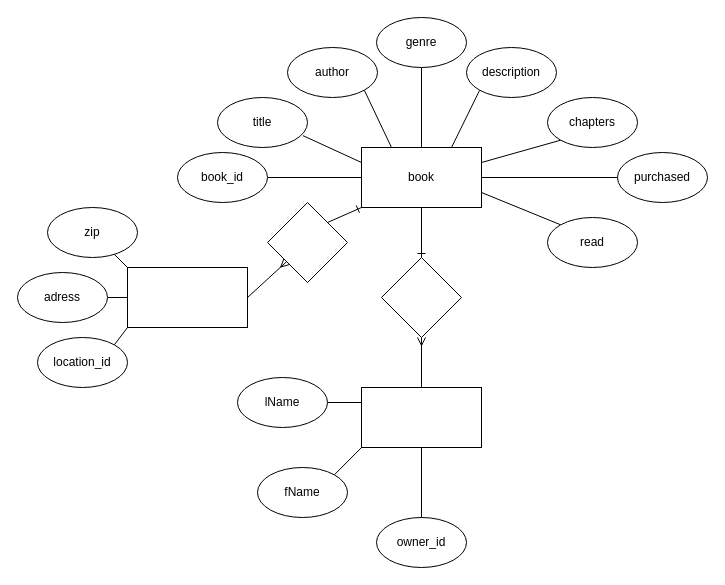
Some shapes in this 725 by 585 pixel diagram are drawn without their labels. Each missing label, with the centre of its shape:
"location" goes at (187,297).
"own" goes at (421,297).
"owner" goes at (421,417).
"stores" goes at (307,242).
